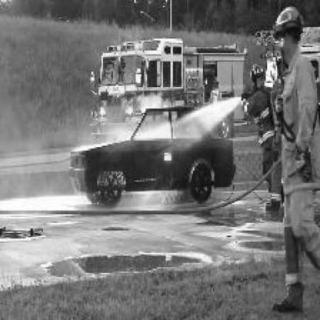other: (108, 33, 145, 51)
